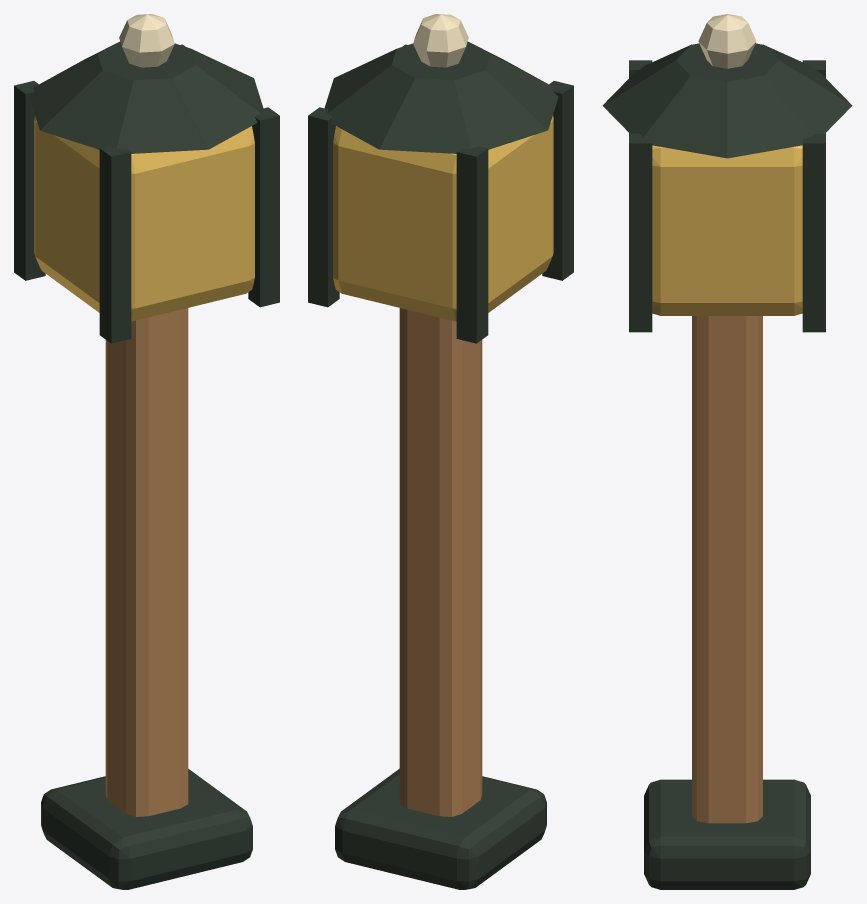
File: SM_Lantern.fbx
3 renders of one model, left to right at view 1: azimuth 30°, elevation 25°; view 2: azimuth 150°, elevation 25°; view 3: azimuth 270°, elevation 25°, orthographic.
Parts seen in each view (by area): view 1: LanternMesh; view 2: LanternMesh; view 3: LanternMesh.
Boxes of the visible parts, bbox=[...] form: LanternMesh: bbox=[14, 14, 279, 889]; LanternMesh: bbox=[308, 14, 573, 889]; LanternMesh: bbox=[602, 14, 852, 889].
Size of the model in its own units: 0.3 by 1.12 by 0.3.
